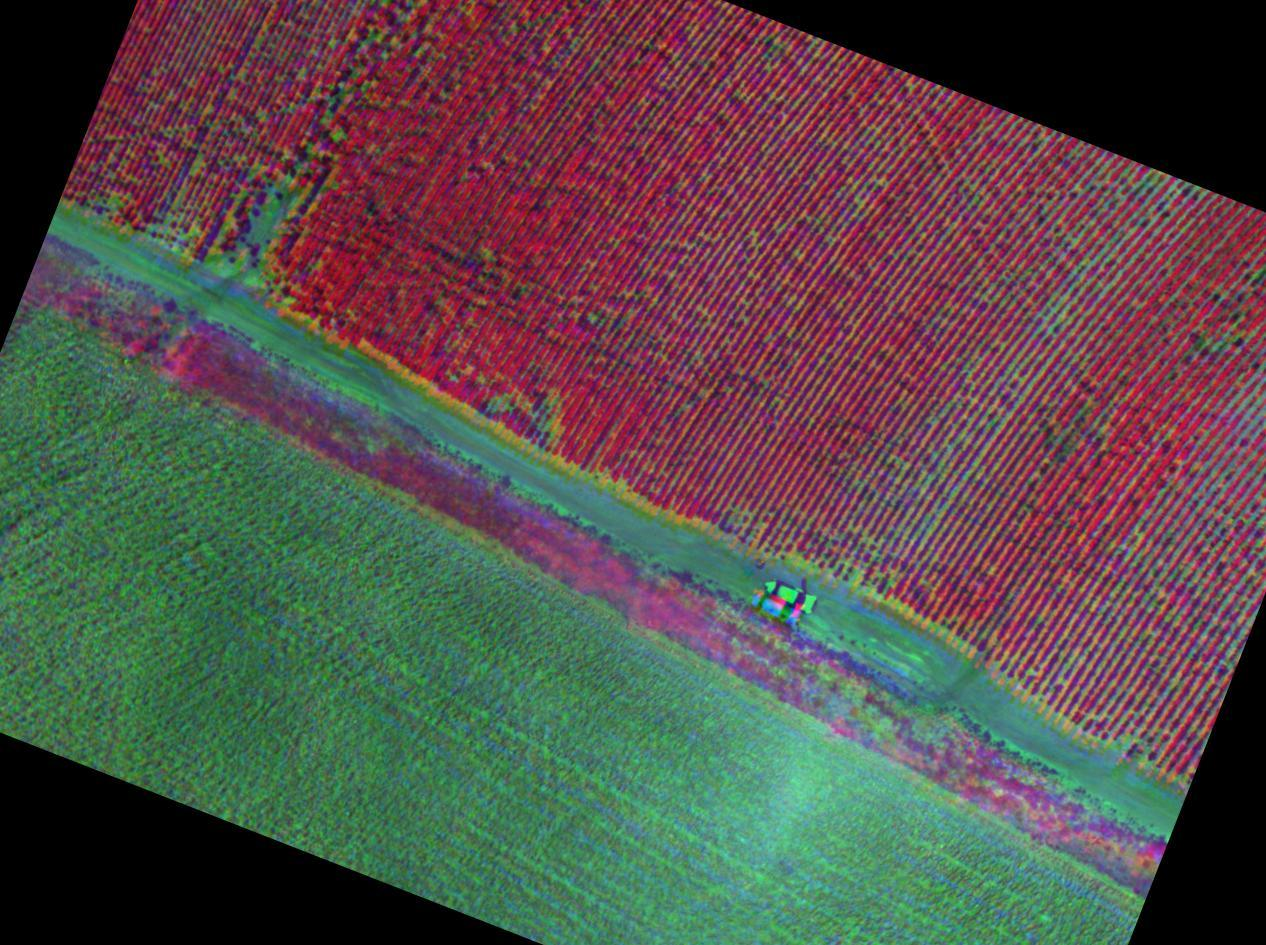dc: (188, 93, 344, 280), (840, 484, 957, 599), (469, 361, 580, 452), (1026, 378, 1126, 479)
